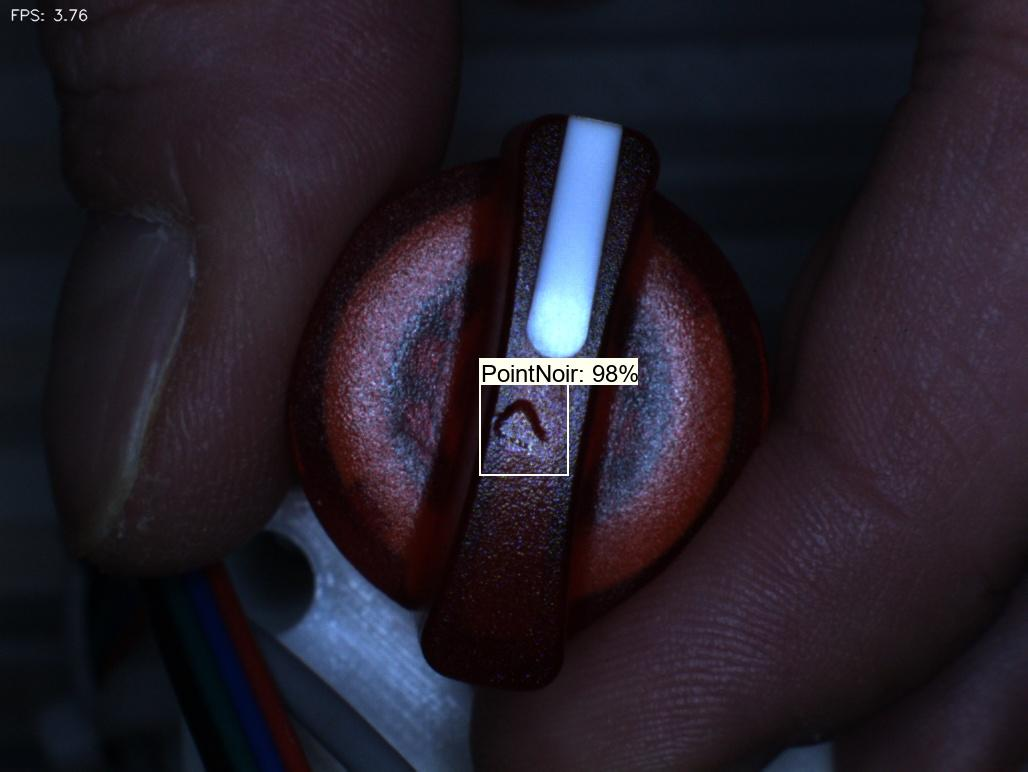Choc: (484, 389, 579, 487)
